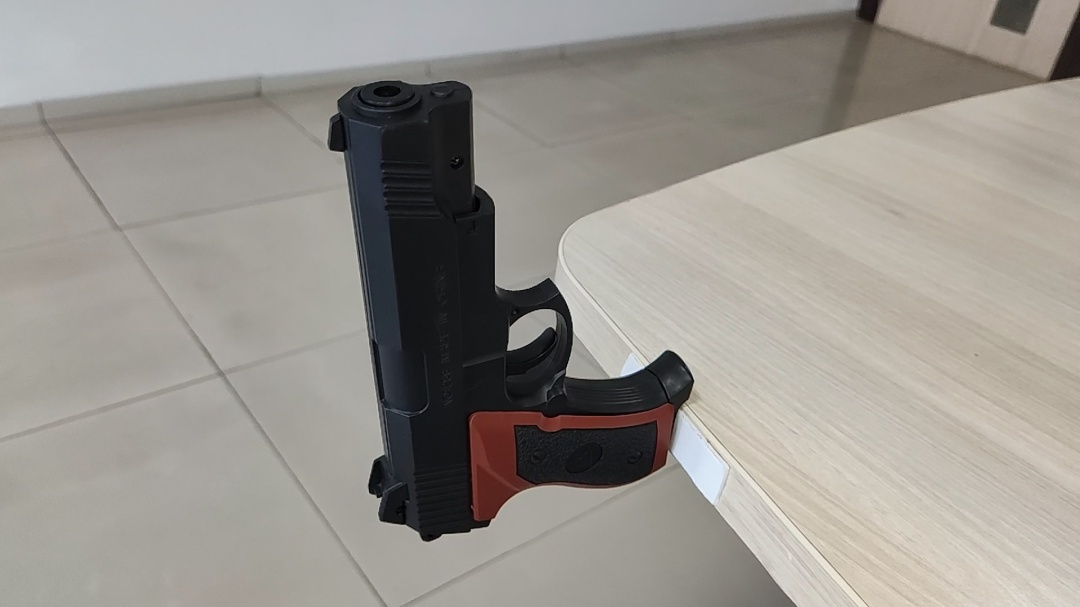gun: (531, 267, 560, 293)
